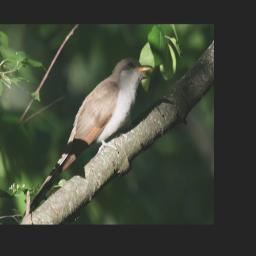Cuckoo: (24, 57, 154, 216)
